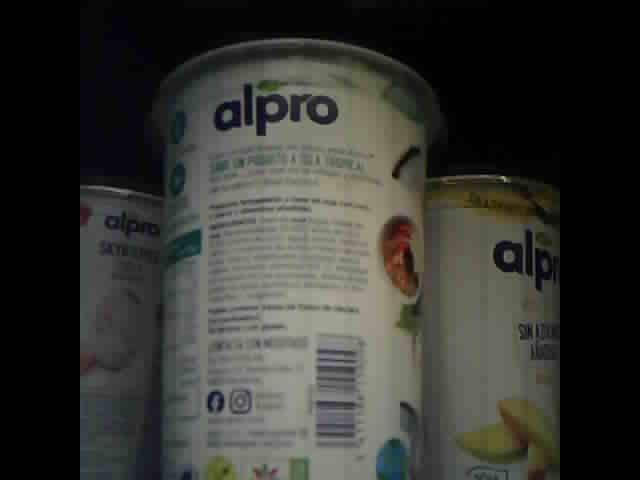alpro: (155, 38, 440, 480), (424, 165, 560, 479), (81, 168, 166, 480)
